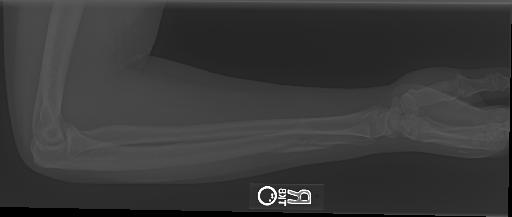forearm fracture: (260, 124, 345, 165)
